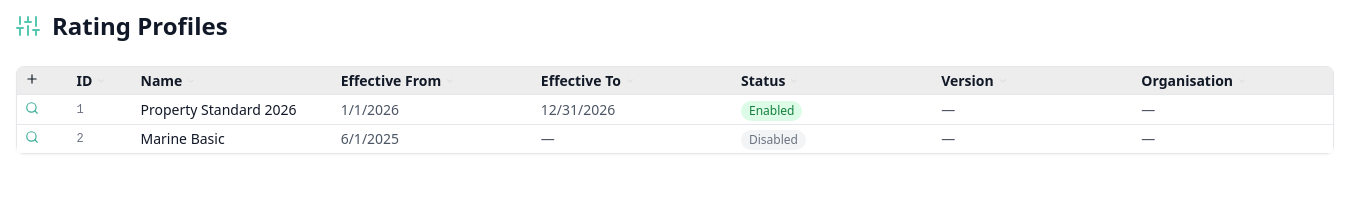
Test: T-settings-rating-R09: Create New Schedule › T-settings-rating-R09b: clicking the add button shows an inline create row with date fields
Expected: the text "Property Standard 2026" is shown, [132,95,333,124]
Click the button named "add schedule" at (32, 79), box [25,72,39,86]
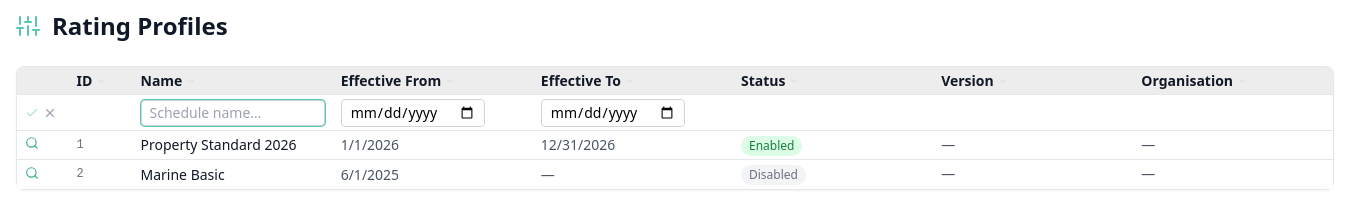
Result: the field labelled "Schedule name…" is shown at [140,100,325,126]
Result: the date field named "effective from" is shown at [341,99,485,127]
Result: the date field named "effective to" is shown at [541,99,685,127]
